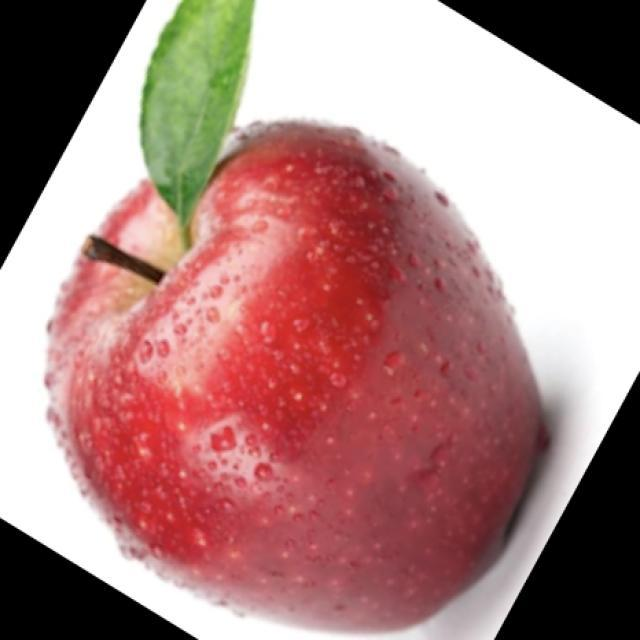Apple: (43, 116, 551, 635)
